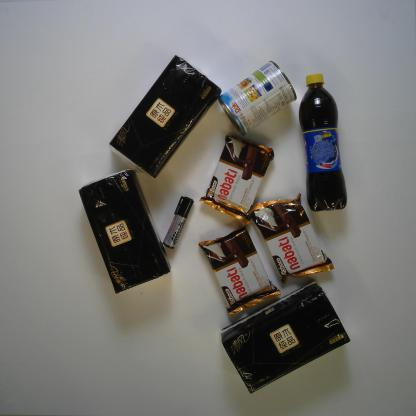Canned Food: (219, 59, 297, 136)
Dessert: (246, 192, 334, 286), (198, 225, 282, 317), (198, 132, 274, 226)
Drink: (298, 73, 348, 212)
Stationery: (162, 196, 194, 249)
Tissue: (221, 280, 351, 395), (108, 55, 222, 179), (78, 169, 171, 294)
